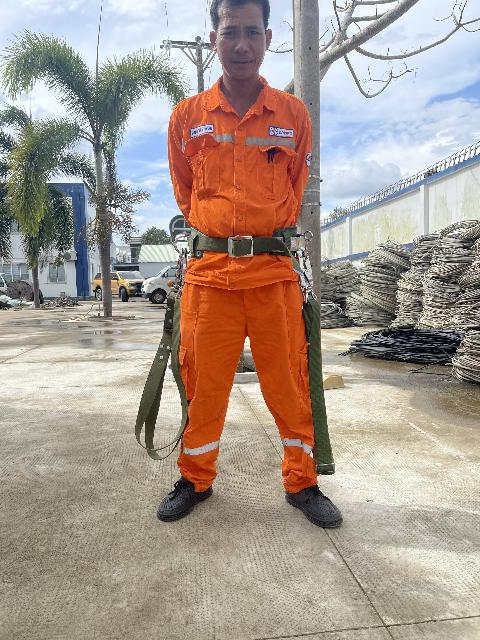harness: (166, 214, 319, 271)
shoes: (282, 465, 350, 534), (144, 468, 225, 524)
